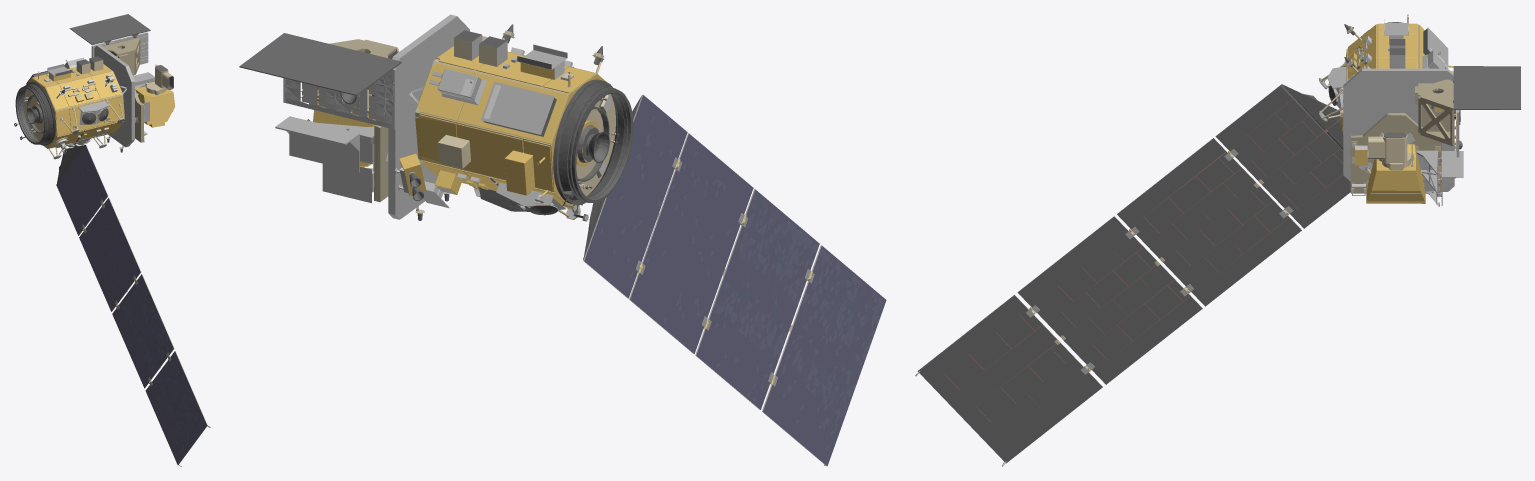
File: landsat8.glb
The picture shows the model from 3 angles, left to right: view 1: azimuth 30°, elevation 25°; view 2: azimuth 150°, elevation 25°; view 3: azimuth 270°, elevation 25°; orthographic projection. The views are drawn at different scales.
Parts seen in each view (by area): view 1: Layer_0; view 2: Layer_0; view 3: Layer_0.
Part boxes in pixels (x1,y1,x2,y2): Layer_0: (14, 14, 210, 466); Layer_0: (239, 14, 886, 466); Layer_0: (915, 14, 1520, 466).
Bounding box in the file's own units: 4.97 × 10.04 × 12.26.
